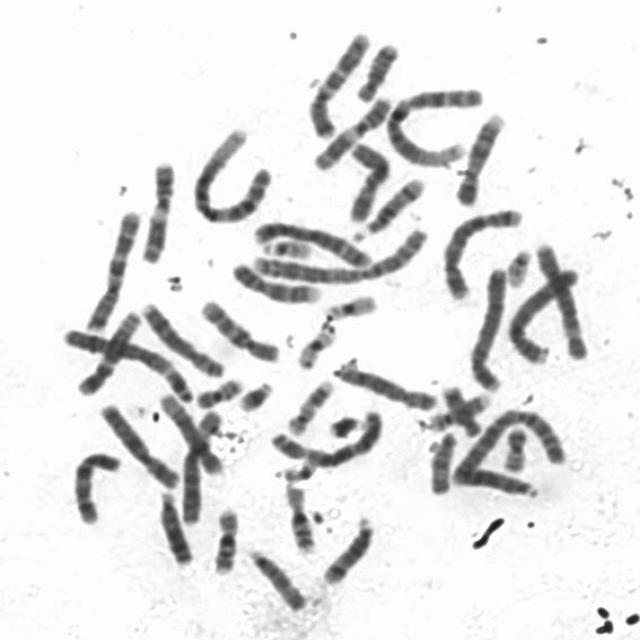A1: (185, 122, 277, 226), (380, 81, 486, 168)
A2: (247, 220, 430, 286), (446, 403, 569, 486)
A3: (56, 322, 196, 405), (265, 405, 385, 469)
B4: (503, 262, 585, 366), (464, 261, 511, 394)
B5: (437, 202, 526, 302), (248, 215, 376, 269)
C10: (195, 292, 284, 365), (68, 446, 124, 526)
C11: (307, 90, 395, 174), (136, 154, 178, 265)
C12: (72, 305, 146, 398), (152, 386, 226, 476)
C6: (530, 237, 592, 363), (176, 405, 226, 526)
C7: (80, 204, 145, 334), (302, 24, 373, 140)
C8: (135, 296, 228, 380), (330, 355, 441, 413)
C9: (450, 106, 509, 208), (227, 256, 325, 305)
D13: (450, 461, 542, 500), (154, 484, 196, 566)
D14: (351, 171, 429, 241), (317, 510, 377, 587)
D15: (243, 544, 309, 614), (424, 428, 460, 496)
E16: (280, 477, 319, 554), (208, 502, 242, 577)
E17: (281, 373, 336, 438), (424, 388, 494, 433)
E18: (352, 36, 402, 103), (434, 381, 486, 438)
F19: (291, 318, 340, 371), (320, 288, 380, 321)
F20: (191, 372, 246, 409), (498, 422, 529, 474)
G21: (232, 374, 276, 414), (322, 408, 364, 440)
G22: (501, 242, 535, 288), (256, 234, 315, 259)
X: (94, 397, 182, 490), (341, 136, 394, 224)
